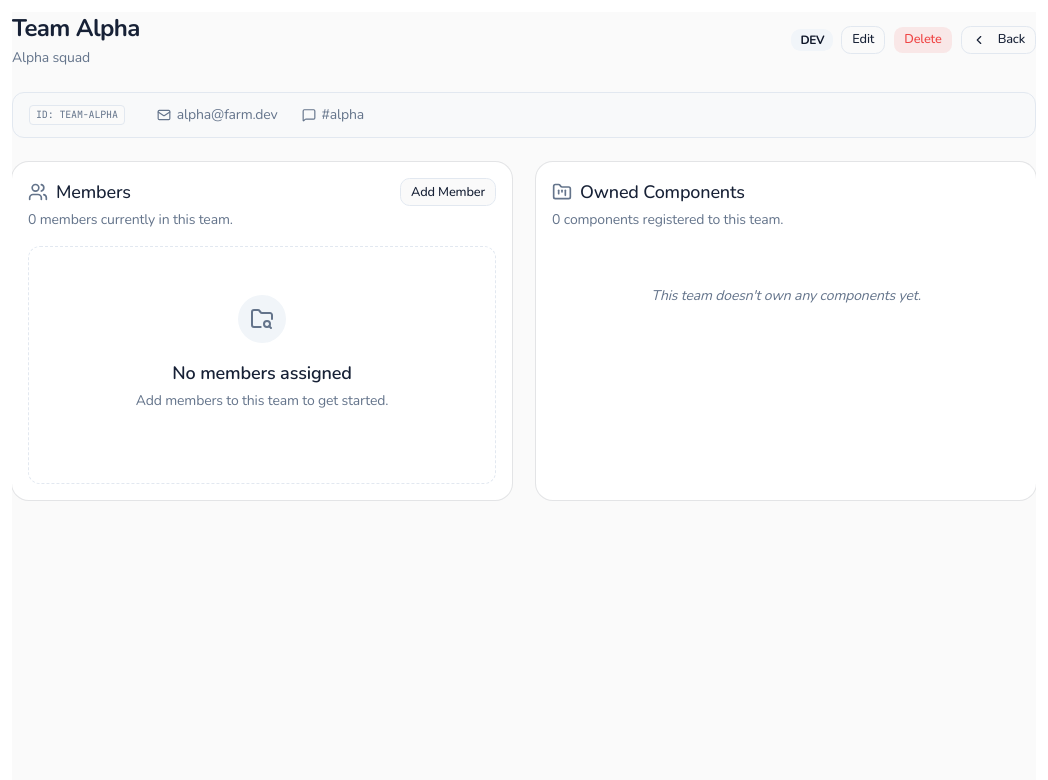
Scenario: TeamDetailClient › shows the edit form when Edit is clicked
Click the button "Edit": (863,40) [841,26,885,54]
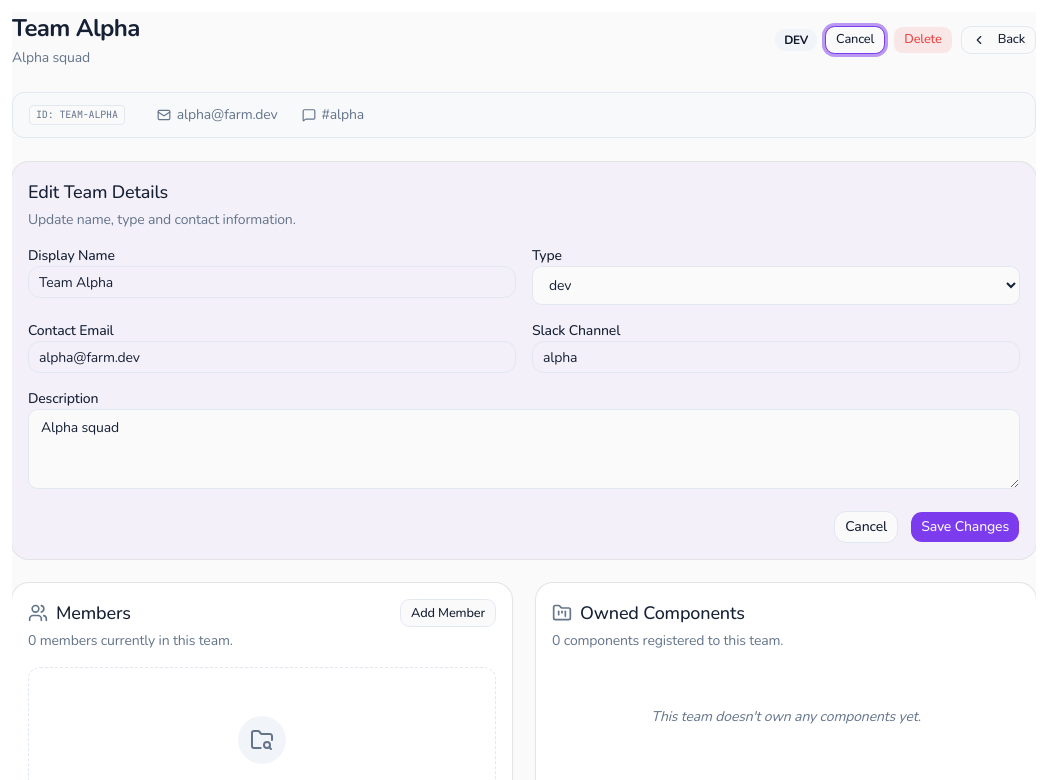
Now the text "Edit Team Details" is shown, box [28,180,168,204]
